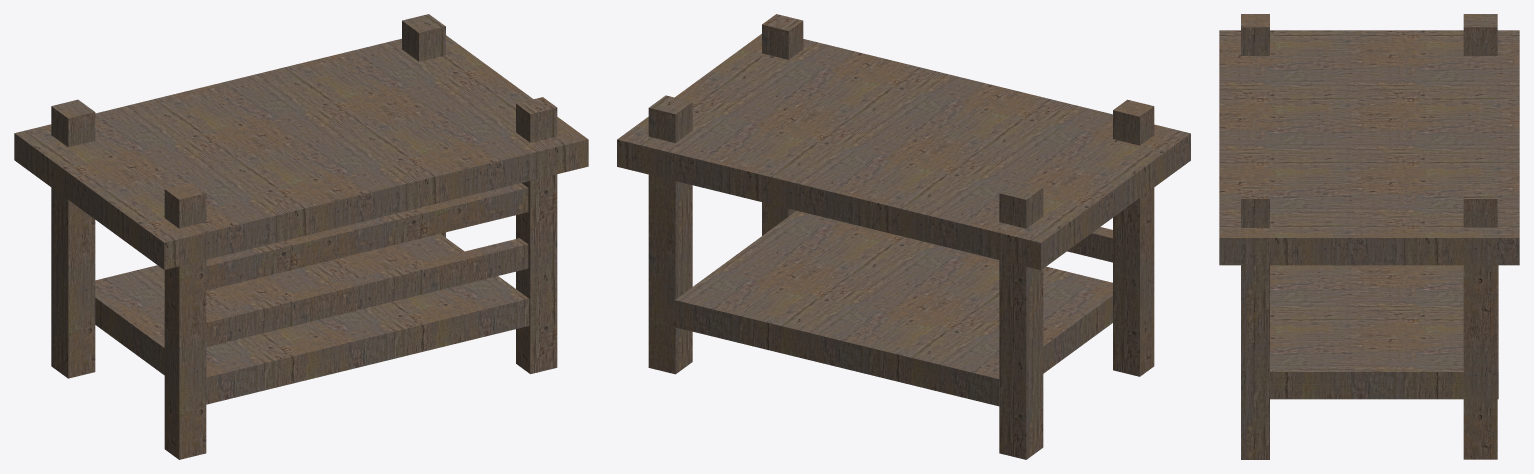
Rendered from OU_AR_Watch_Tower_Stand_03_D.fbx.
3 views of the same model, side by side, from view 1: azimuth 30°, elevation 25°; view 2: azimuth 150°, elevation 25°; view 3: azimuth 270°, elevation 25° (orthographic).
Parts seen in each view (by area): view 1: Stand; view 2: Stand; view 3: Stand.
Boxes of the visible parts, box(x1,y1,x2,y2) form: Stand: box(14, 14, 588, 459); Stand: box(617, 14, 1190, 459); Stand: box(1219, 14, 1519, 459).
Bounding box in the file's own units: 163 × 95.59 × 99.83.
1 material, 1 textured.
